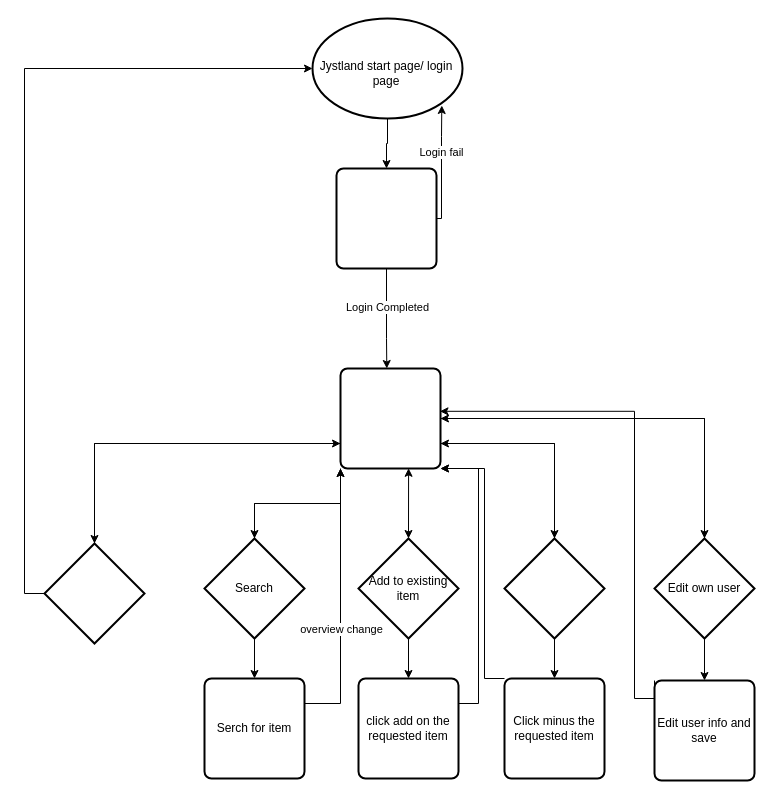
The diagram is 773 pixels wide and 798 high, and some of its shapes have lost their labels. Each missing label, with the centre of its shape:
Log out: (94,593)
Overview with item table: (390,418)
Remove from existing item: (554,588)
user login with username and password: (386,218)
